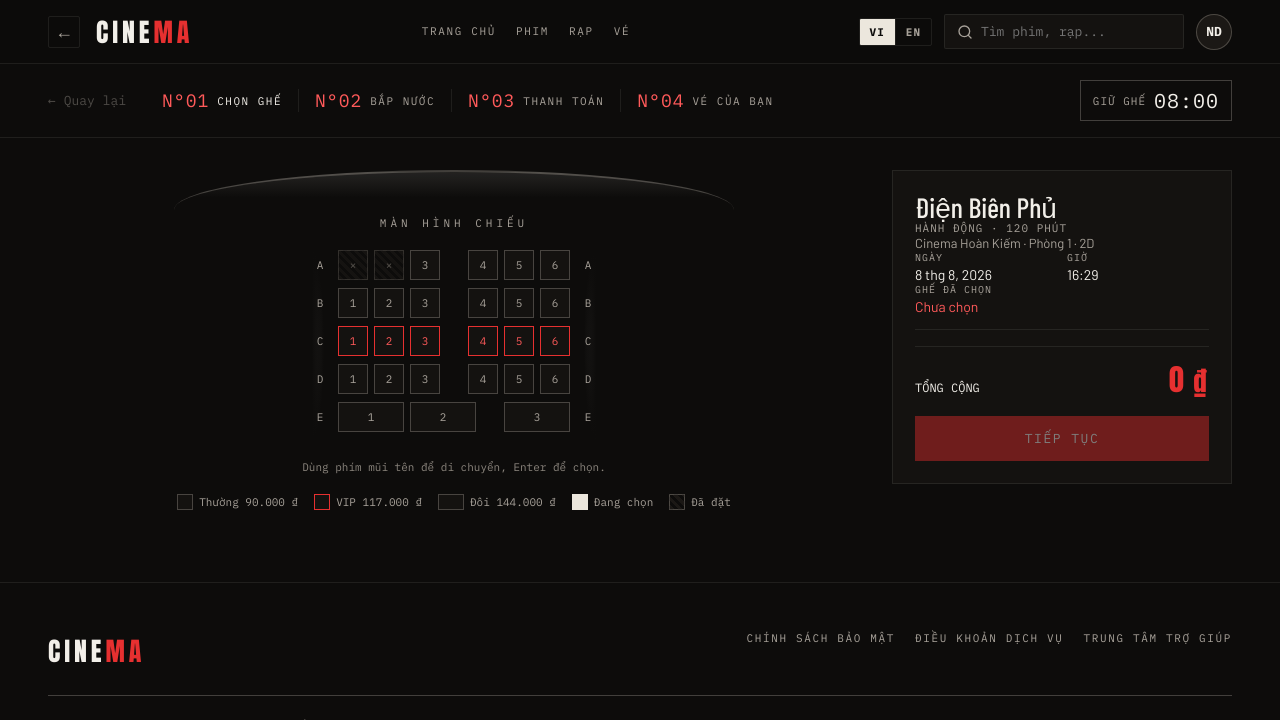
BookingWizard — bước ① chọn ghế › bấm lại ghế đang chọn thì bỏ chọn và khoá nút tiếp tục
This screenshot has width=1280, height=720.
Expected: the heading "Điện Biên Phủ" is shown, [915,190,1057,224]
Step 1. Click the 1st cell "1" → (353, 303), box [338,288,368,318]
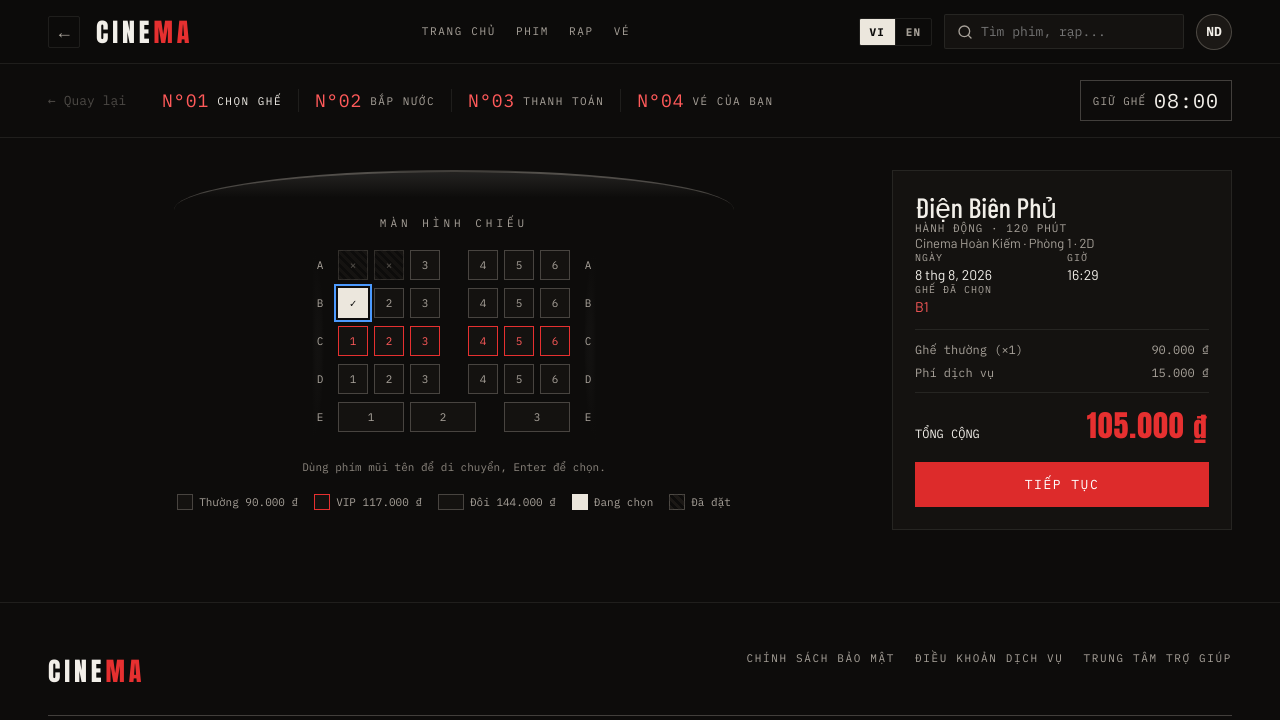
Step 2. Click the cell "✓" → (353, 303), box [338,288,368,318]
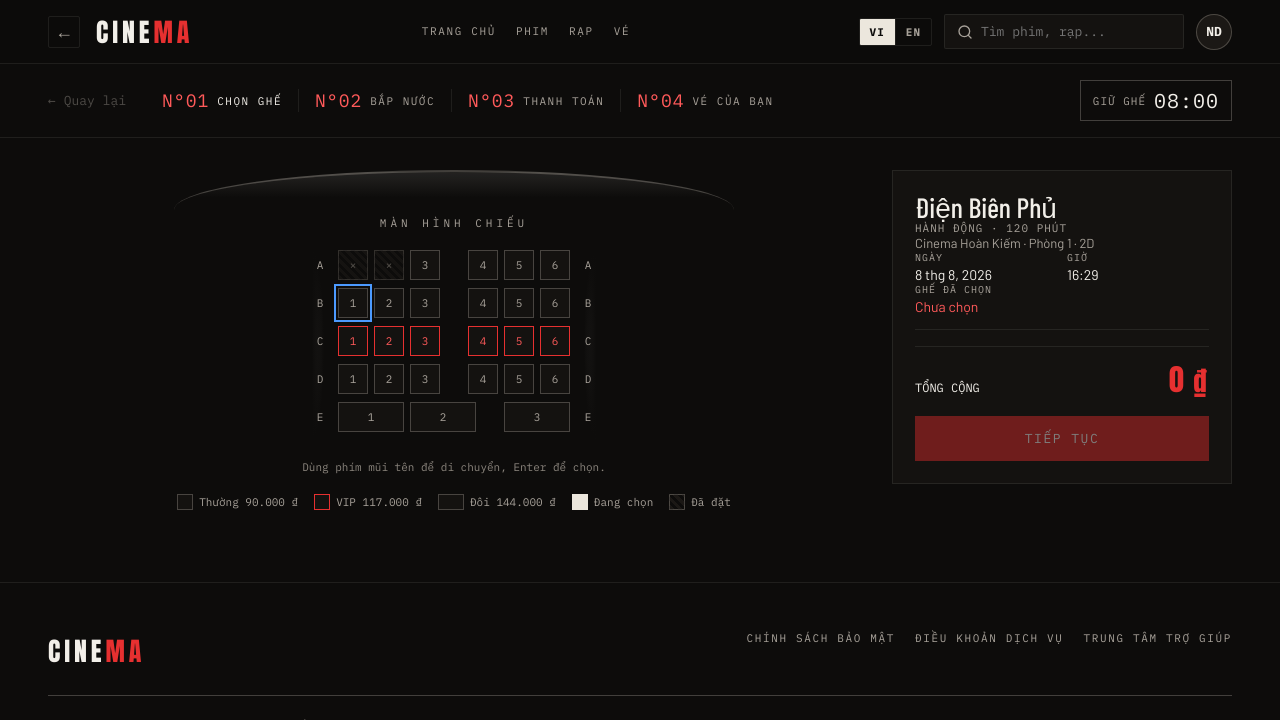
Expected: the text with class "os-k__seatlist" reads "Chưa chọn", [915,298,978,315]
Expected: the button "Tiếp tục" is disabled, [915,416,1209,461]
